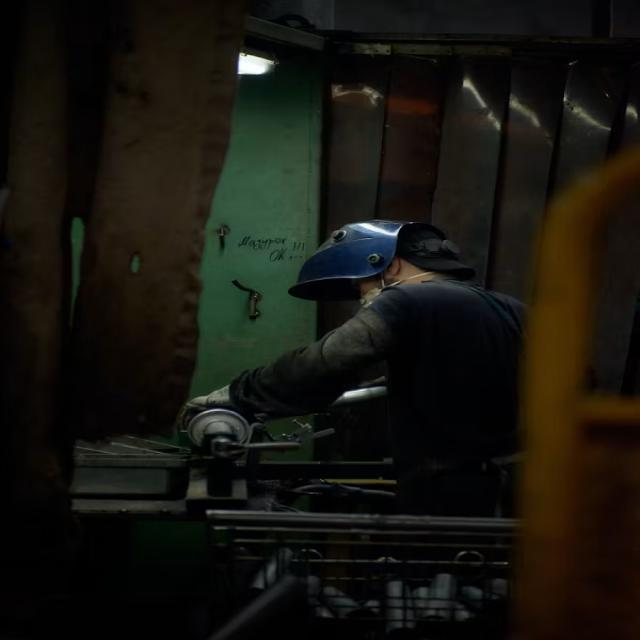helmet_lifted: (290, 217, 483, 318)
